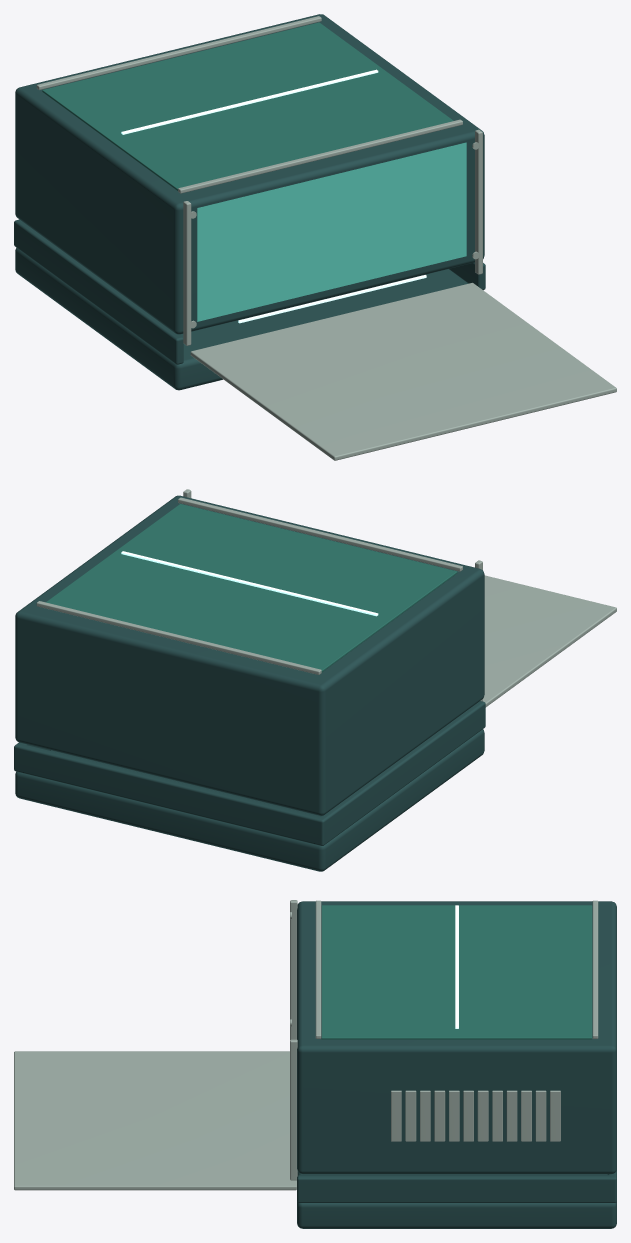
File: instrument-v8.glb
3 renders of one model, top to bottom at view 1: azimuth 30°, elevation 25°; view 2: azimuth 150°, elevation 25°; view 3: azimuth 270°, elevation 25°, orthographic. The views are drawn at different scales.
Parts seen in each view (by area): view 1: instrument-output, instrument-upper, instrument-glass, VisitorFacingAgentScreen, instrument-plinth, instrument-left, ScannerRail, ScannerRail.001, MachinedRail, MachinedRail.001, OpticalScanBar, InstrumentStatus; view 2: instrument-upper, instrument-glass, instrument-plinth, instrument-back, instrument-output, instrument-left, ScannerRail, ScannerRail.001, OpticalScanBar; view 3: instrument-upper, instrument-output, instrument-glass, instrument-right, instrument-plinth, MachinedRail.001, MachinedRail, ScannerRail, ScannerRail.001, CoolingFin.008, CoolingFin.001, CoolingFin.003 (+10 smaller).
Part boxes in pixels (x1,y1,x2,y2): instrument-output: (190,282,616,460); instrument-upper: (15,14,484,334); instrument-glass: (42,22,453,190); VisitorFacingAgentScreen: (197,142,466,321); instrument-plinth: (15,247,467,390); instrument-left: (14,220,183,364); ScannerRail: (36,16,321,89); ScannerRail.001: (178,119,462,193); MachinedRail: (183,201,191,345); MachinedRail.001: (475,129,482,274); OpticalScanBar: (121,69,378,134); InstrumentStatus: (238,275,426,323); instrument-upper: (15,495,484,815); instrument-glass: (46,504,457,672); instrument-plinth: (15,729,484,871); instrument-back: (14,743,326,845); instrument-output: (483,575,616,707); instrument-left: (318,701,485,845); ScannerRail: (36,601,321,674); ScannerRail.001: (178,497,462,571); OpticalScanBar: (121,551,378,616); instrument-upper: (297,901,616,1174); instrument-output: (14,1051,296,1190); instrument-glass: (321,905,592,1039); instrument-right: (297,1175,616,1202); instrument-plinth: (297,1171,616,1228); MachinedRail.001: (290,1039,297,1180); MachinedRail: (290,900,297,1039); ScannerRail: (592,900,598,1038); ScannerRail.001: (315,900,321,1038); CoolingFin.008: (434,1090,445,1141); CoolingFin.001: (535,1090,546,1141); CoolingFin.003: (506,1090,517,1141).
Size of the model in its own units: 1.15 by 0.6825 by 1.96.
